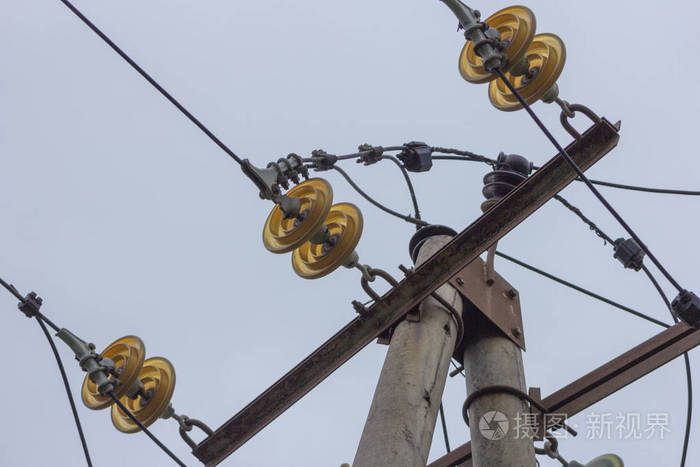insulator: (457, 7, 565, 112), (261, 173, 363, 281), (82, 332, 174, 437)
